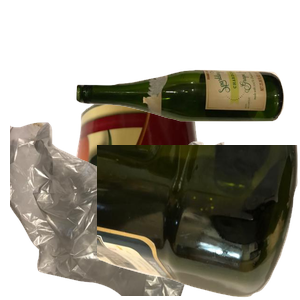glass: (74, 67, 300, 181)
metal: (69, 93, 265, 273)
plastic: (97, 145, 300, 300)
trash: (10, 120, 231, 300)
